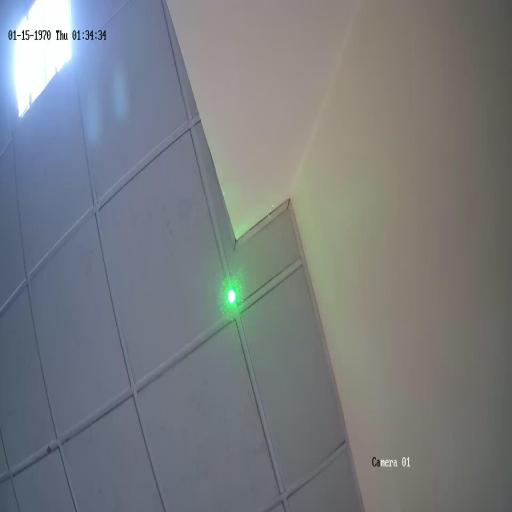laser: (226, 285, 236, 308)
